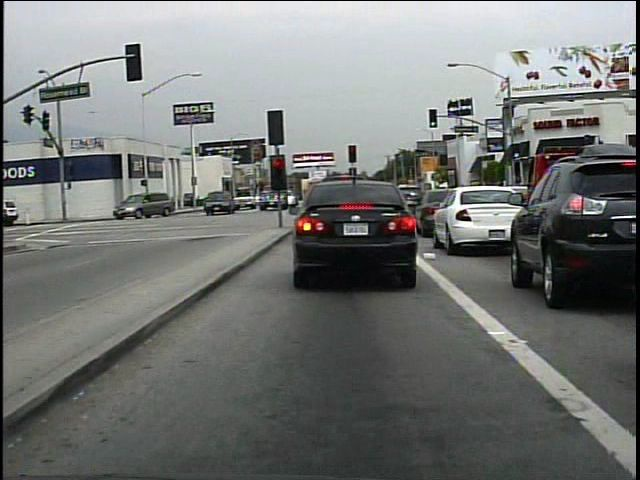person: (205, 187, 226, 212)
